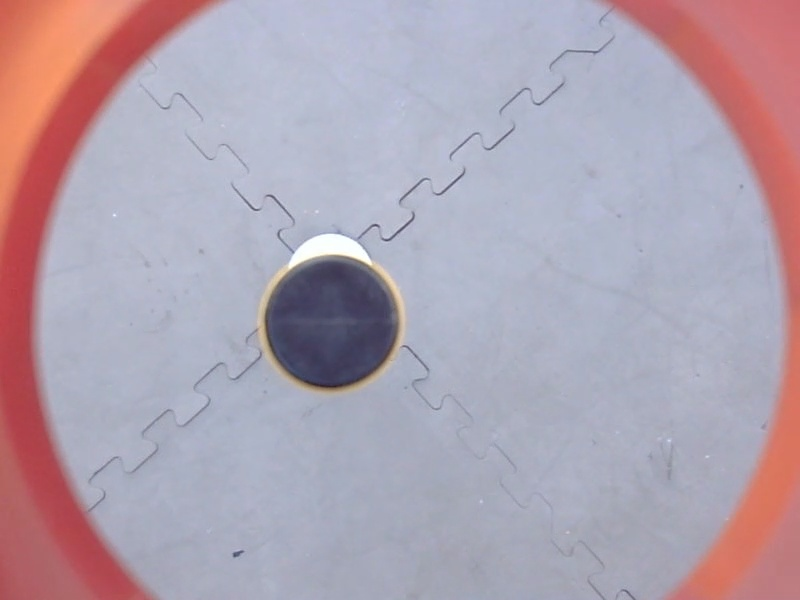tip: (249, 246, 412, 402)
